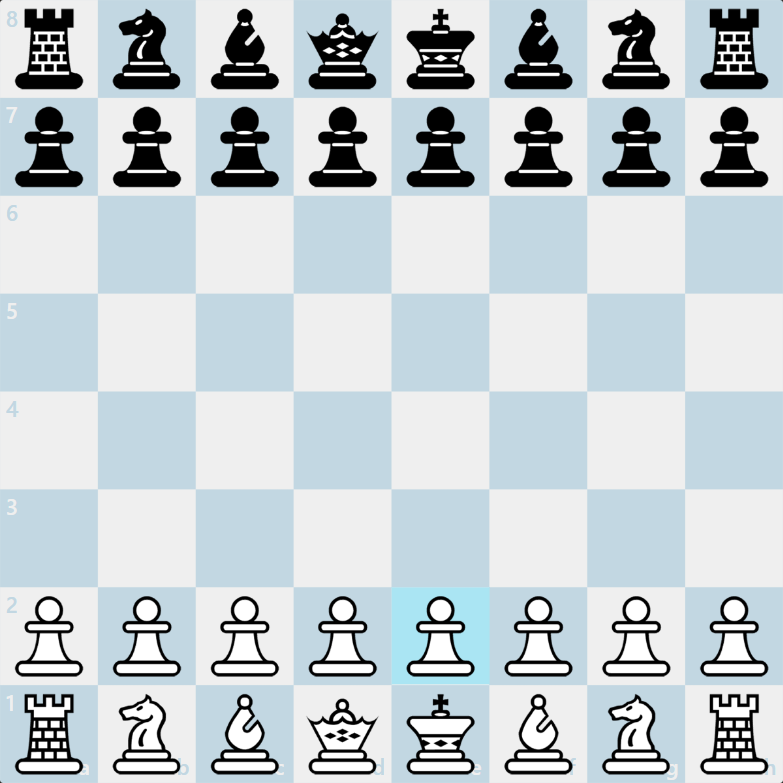B: (208, 692, 282, 777), (502, 692, 575, 777)
K: (403, 692, 477, 777)
N: (598, 693, 672, 777), (112, 691, 182, 777)
P: (110, 594, 185, 680), (12, 594, 86, 680), (306, 593, 379, 680), (209, 594, 282, 680), (403, 594, 476, 679), (700, 594, 770, 680), (602, 594, 671, 681), (503, 594, 573, 679)
Q: (304, 695, 381, 777)
R: (699, 691, 772, 778), (15, 691, 85, 776)
b: (207, 5, 283, 92), (503, 6, 574, 92)
k: (402, 5, 479, 93)
n: (601, 6, 674, 92), (110, 6, 183, 92)
p: (595, 103, 673, 192), (109, 103, 186, 193), (208, 104, 282, 193), (307, 103, 379, 193), (402, 104, 476, 191), (502, 105, 576, 192), (696, 104, 770, 191), (13, 104, 86, 191)
q: (302, 9, 381, 93)
r: (697, 5, 772, 93), (13, 5, 85, 93)
